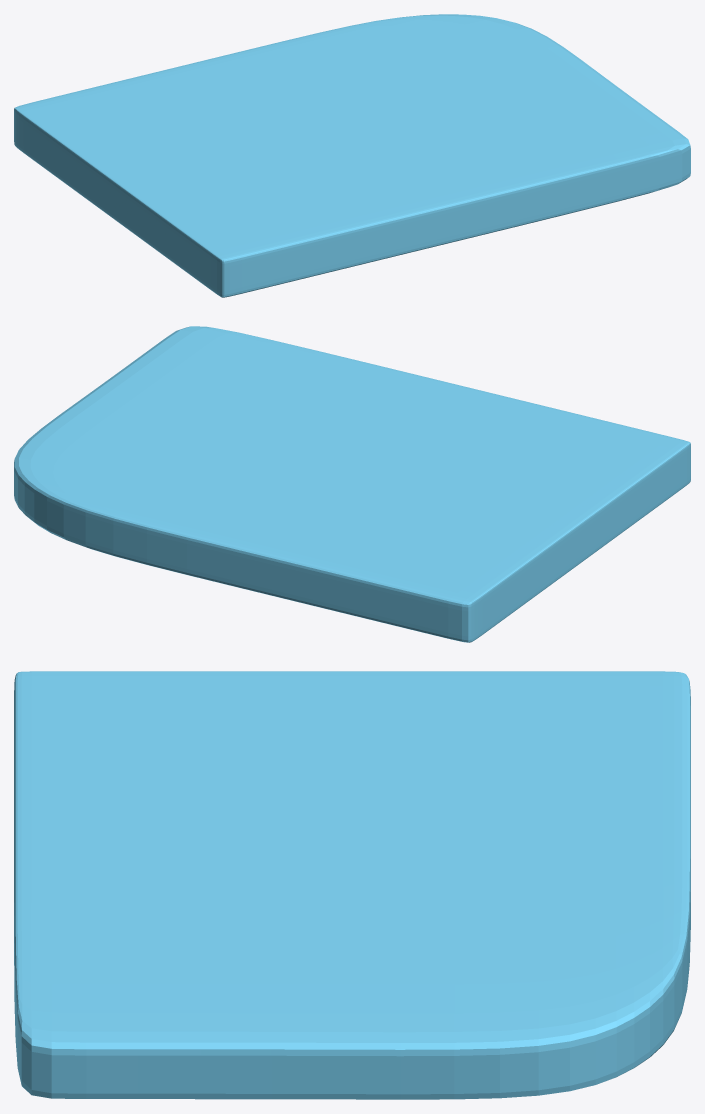
File: SpacePlatform.fbx
The picture shows the model from 3 angles, top to bottom: view 1: azimuth 30°, elevation 25°; view 2: azimuth 150°, elevation 25°; view 3: azimuth 270°, elevation 25°; orthographic projection. The views are drawn at different scales.
Parts seen in each view (by area): view 1: Platform_Curved_1; view 2: Platform_Curved_1; view 3: Platform_Curved_1.
Part boxes in pixels (x1,y1,x2,y2): Platform_Curved_1: (14,14,690,297); Platform_Curved_1: (14,326,690,642); Platform_Curved_1: (14,671,690,1099).
Bounding box in the file's own units: 4406 × 341 × 3371.
